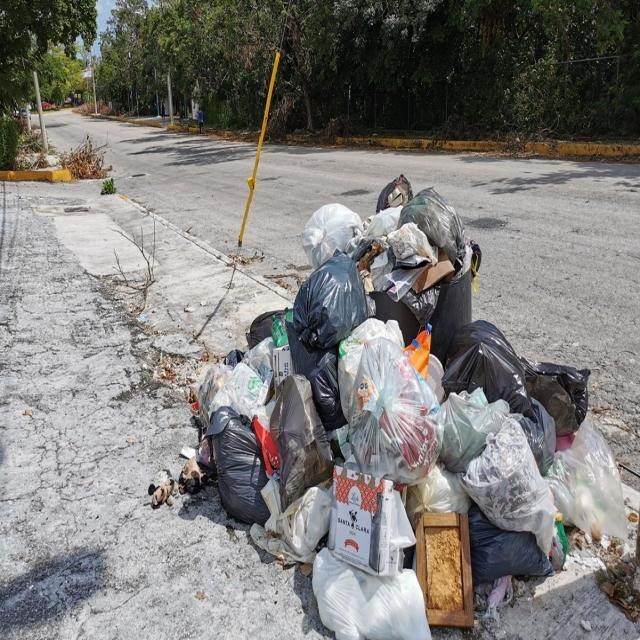garbage: (164, 173, 637, 640)
